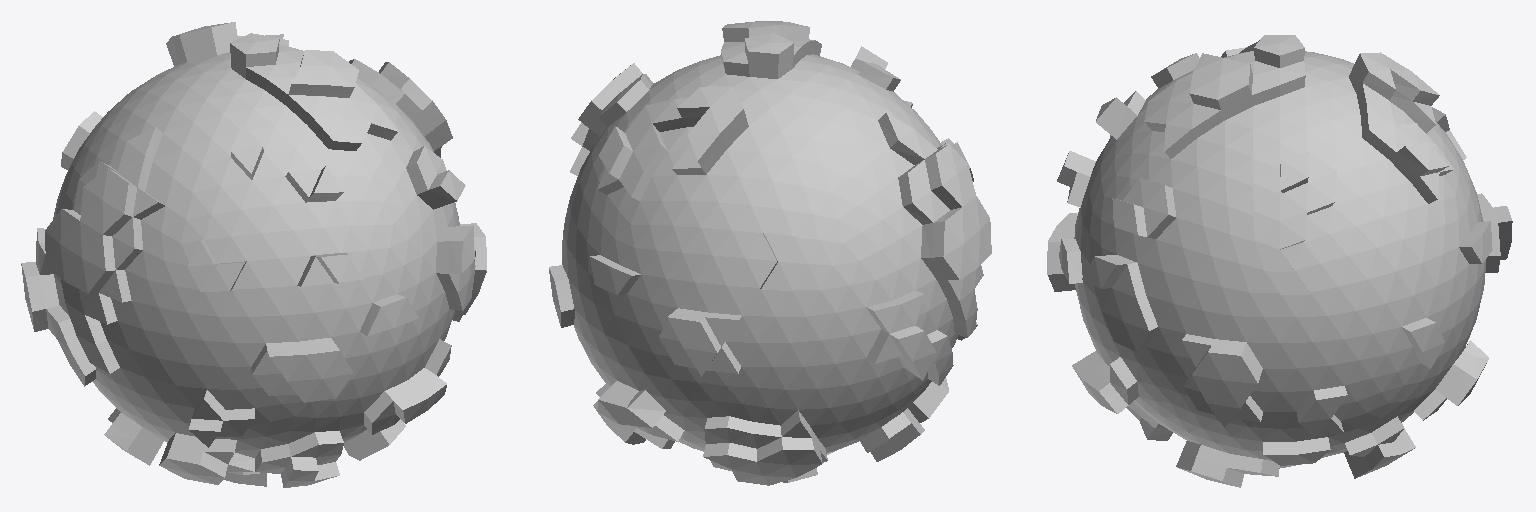
File: world-v1.obj
The picture shows the model from 3 angles: view 1: azimuth 30°, elevation 25°; view 2: azimuth 150°, elevation 25°; view 3: azimuth 270°, elevation 25°; orthographic projection.
Visible parts, largest first — view 1: Icosphere; view 2: Icosphere; view 3: Icosphere.
Boxes of the visible parts, x1,y1,x2,y2 form: Icosphere: [21, 22, 486, 487]; Icosphere: [549, 21, 991, 485]; Icosphere: [1047, 35, 1512, 487].
Bounding box in the file's own units: 15.11 × 15.32 × 15.14.